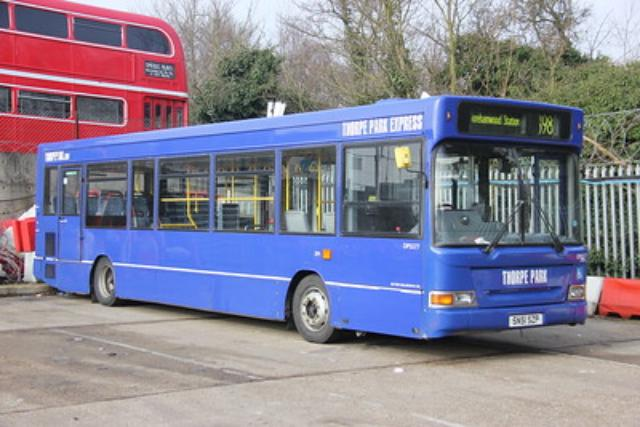bus: (32, 94, 587, 344)
